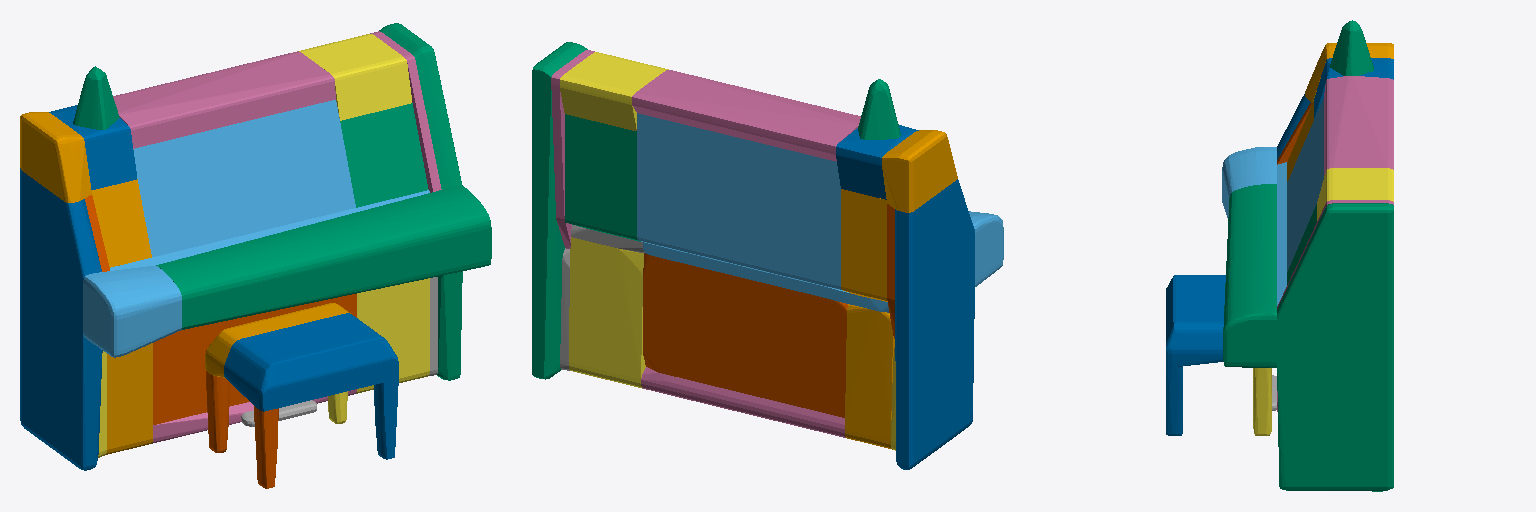
robot.urdf — root:
<robot name="root">
  <link name="link_convex_piece_028.obj">
    <inertial>
      <origin xyz="0 0 0" rpy="0 0 0"/>
    </inertial>
    <visual>
      <origin xyz="0 0 0" rpy="0 0 0"/>
      <geometry>
        <mesh filename="meshes/convex_piece_028.obj" scale="1.0 1.0 1.0"/>
      </geometry>
    </visual>
    <collision>
      <origin xyz="0 0 0" rpy="0 0 0"/>
      <geometry>
        <mesh filename="meshes/convex_piece_028.obj" scale="1.0 1.0 1.0"/>
      </geometry>
    </collision>
  </link>
  <link name="link_convex_piece_018.obj">
    <inertial>
      <origin xyz="0 0 0" rpy="0 0 0"/>
    </inertial>
    <visual>
      <origin xyz="0 0 0" rpy="0 0 0"/>
      <geometry>
        <mesh filename="meshes/convex_piece_018.obj" scale="1.0 1.0 1.0"/>
      </geometry>
    </visual>
    <collision>
      <origin xyz="0 0 0" rpy="0 0 0"/>
      <geometry>
        <mesh filename="meshes/convex_piece_018.obj" scale="1.0 1.0 1.0"/>
      </geometry>
    </collision>
  </link>
  <joint name="link_convex_piece_018.obj_joint" type="fixed">
    <origin xyz="0 0 0" rpy="0 0 0"/>
    <parent link="link_convex_piece_028.obj"/>
    <child link="link_convex_piece_018.obj"/>
  </joint>
  <link name="link_convex_piece_026.obj">
    <inertial>
      <origin xyz="0 0 0" rpy="0 0 0"/>
    </inertial>
    <visual>
      <origin xyz="0 0 0" rpy="0 0 0"/>
      <geometry>
        <mesh filename="meshes/convex_piece_026.obj" scale="1.0 1.0 1.0"/>
      </geometry>
    </visual>
    <collision>
      <origin xyz="0 0 0" rpy="0 0 0"/>
      <geometry>
        <mesh filename="meshes/convex_piece_026.obj" scale="1.0 1.0 1.0"/>
      </geometry>
    </collision>
  </link>
  <joint name="link_convex_piece_026.obj_joint" type="fixed">
    <origin xyz="0 0 0" rpy="0 0 0"/>
    <parent link="link_convex_piece_018.obj"/>
    <child link="link_convex_piece_026.obj"/>
  </joint>
  <link name="link_convex_piece_021.obj">
    <inertial>
      <origin xyz="0 0 0" rpy="0 0 0"/>
    </inertial>
    <visual>
      <origin xyz="0 0 0" rpy="0 0 0"/>
      <geometry>
        <mesh filename="meshes/convex_piece_021.obj" scale="1.0 1.0 1.0"/>
      </geometry>
    </visual>
    <collision>
      <origin xyz="0 0 0" rpy="0 0 0"/>
      <geometry>
        <mesh filename="meshes/convex_piece_021.obj" scale="1.0 1.0 1.0"/>
      </geometry>
    </collision>
  </link>
  <joint name="link_convex_piece_021.obj_joint" type="fixed">
    <origin xyz="0 0 0" rpy="0 0 0"/>
    <parent link="link_convex_piece_026.obj"/>
    <child link="link_convex_piece_021.obj"/>
  </joint>
  <link name="link_convex_piece_012.obj">
    <inertial>
      <origin xyz="0 0 0" rpy="0 0 0"/>
    </inertial>
    <visual>
      <origin xyz="0 0 0" rpy="0 0 0"/>
      <geometry>
        <mesh filename="meshes/convex_piece_012.obj" scale="1.0 1.0 1.0"/>
      </geometry>
    </visual>
    <collision>
      <origin xyz="0 0 0" rpy="0 0 0"/>
      <geometry>
        <mesh filename="meshes/convex_piece_012.obj" scale="1.0 1.0 1.0"/>
      </geometry>
    </collision>
  </link>
  <joint name="link_convex_piece_012.obj_joint" type="fixed">
    <origin xyz="0 0 0" rpy="0 0 0"/>
    <parent link="link_convex_piece_021.obj"/>
    <child link="link_convex_piece_012.obj"/>
  </joint>
  <link name="link_convex_piece_019.obj">
    <inertial>
      <origin xyz="0 0 0" rpy="0 0 0"/>
    </inertial>
    <visual>
      <origin xyz="0 0 0" rpy="0 0 0"/>
      <geometry>
        <mesh filename="meshes/convex_piece_019.obj" scale="1.0 1.0 1.0"/>
      </geometry>
    </visual>
    <collision>
      <origin xyz="0 0 0" rpy="0 0 0"/>
      <geometry>
        <mesh filename="meshes/convex_piece_019.obj" scale="1.0 1.0 1.0"/>
      </geometry>
    </collision>
  </link>
  <joint name="link_convex_piece_019.obj_joint" type="fixed">
    <origin xyz="0 0 0" rpy="0 0 0"/>
    <parent link="link_convex_piece_012.obj"/>
    <child link="link_convex_piece_019.obj"/>
  </joint>
  <link name="link_convex_piece_014.obj">
    <inertial>
      <origin xyz="0 0 0" rpy="0 0 0"/>
    </inertial>
    <visual>
      <origin xyz="0 0 0" rpy="0 0 0"/>
      <geometry>
        <mesh filename="meshes/convex_piece_014.obj" scale="1.0 1.0 1.0"/>
      </geometry>
    </visual>
    <collision>
      <origin xyz="0 0 0" rpy="0 0 0"/>
      <geometry>
        <mesh filename="meshes/convex_piece_014.obj" scale="1.0 1.0 1.0"/>
      </geometry>
    </collision>
  </link>
  <joint name="link_convex_piece_014.obj_joint" type="fixed">
    <origin xyz="0 0 0" rpy="0 0 0"/>
    <parent link="link_convex_piece_019.obj"/>
    <child link="link_convex_piece_014.obj"/>
  </joint>
  <link name="link_convex_piece_020.obj">
    <inertial>
      <origin xyz="0 0 0" rpy="0 0 0"/>
    </inertial>
    <visual>
      <origin xyz="0 0 0" rpy="0 0 0"/>
      <geometry>
        <mesh filename="meshes/convex_piece_020.obj" scale="1.0 1.0 1.0"/>
      </geometry>
    </visual>
    <collision>
      <origin xyz="0 0 0" rpy="0 0 0"/>
      <geometry>
        <mesh filename="meshes/convex_piece_020.obj" scale="1.0 1.0 1.0"/>
      </geometry>
    </collision>
  </link>
  <joint name="link_convex_piece_020.obj_joint" type="fixed">
    <origin xyz="0 0 0" rpy="0 0 0"/>
    <parent link="link_convex_piece_014.obj"/>
    <child link="link_convex_piece_020.obj"/>
  </joint>
  <link name="link_convex_piece_004.obj">
    <inertial>
      <origin xyz="0 0 0" rpy="0 0 0"/>
    </inertial>
    <visual>
      <origin xyz="0 0 0" rpy="0 0 0"/>
      <geometry>
        <mesh filename="meshes/convex_piece_004.obj" scale="1.0 1.0 1.0"/>
      </geometry>
    </visual>
    <collision>
      <origin xyz="0 0 0" rpy="0 0 0"/>
      <geometry>
        <mesh filename="meshes/convex_piece_004.obj" scale="1.0 1.0 1.0"/>
      </geometry>
    </collision>
  </link>
  <joint name="link_convex_piece_004.obj_joint" type="fixed">
    <origin xyz="0 0 0" rpy="0 0 0"/>
    <parent link="link_convex_piece_020.obj"/>
    <child link="link_convex_piece_004.obj"/>
  </joint>
  <link name="link_convex_piece_027.obj">
    <inertial>
      <origin xyz="0 0 0" rpy="0 0 0"/>
    </inertial>
    <visual>
      <origin xyz="0 0 0" rpy="0 0 0"/>
      <geometry>
        <mesh filename="meshes/convex_piece_027.obj" scale="1.0 1.0 1.0"/>
      </geometry>
    </visual>
    <collision>
      <origin xyz="0 0 0" rpy="0 0 0"/>
      <geometry>
        <mesh filename="meshes/convex_piece_027.obj" scale="1.0 1.0 1.0"/>
      </geometry>
    </collision>
  </link>
  <joint name="link_convex_piece_027.obj_joint" type="fixed">
    <origin xyz="0 0 0" rpy="0 0 0"/>
    <parent link="link_convex_piece_004.obj"/>
    <child link="link_convex_piece_027.obj"/>
  </joint>
  <link name="link_convex_piece_001.obj">
    <inertial>
      <origin xyz="0 0 0" rpy="0 0 0"/>
    </inertial>
    <visual>
      <origin xyz="0 0 0" rpy="0 0 0"/>
      <geometry>
        <mesh filename="meshes/convex_piece_001.obj" scale="1.0 1.0 1.0"/>
      </geometry>
    </visual>
    <collision>
      <origin xyz="0 0 0" rpy="0 0 0"/>
      <geometry>
        <mesh filename="meshes/convex_piece_001.obj" scale="1.0 1.0 1.0"/>
      </geometry>
    </collision>
  </link>
  <joint name="link_convex_piece_001.obj_joint" type="fixed">
    <origin xyz="0 0 0" rpy="0 0 0"/>
    <parent link="link_convex_piece_027.obj"/>
    <child link="link_convex_piece_001.obj"/>
  </joint>
  <link name="link_convex_piece_015.obj">
    <inertial>
      <origin xyz="0 0 0" rpy="0 0 0"/>
    </inertial>
    <visual>
      <origin xyz="0 0 0" rpy="0 0 0"/>
      <geometry>
        <mesh filename="meshes/convex_piece_015.obj" scale="1.0 1.0 1.0"/>
      </geometry>
    </visual>
    <collision>
      <origin xyz="0 0 0" rpy="0 0 0"/>
      <geometry>
        <mesh filename="meshes/convex_piece_015.obj" scale="1.0 1.0 1.0"/>
      </geometry>
    </collision>
  </link>
  <joint name="link_convex_piece_015.obj_joint" type="fixed">
    <origin xyz="0 0 0" rpy="0 0 0"/>
    <parent link="link_convex_piece_001.obj"/>
    <child link="link_convex_piece_015.obj"/>
  </joint>
  <link name="link_convex_piece_005.obj">
    <inertial>
      <origin xyz="0 0 0" rpy="0 0 0"/>
    </inertial>
    <visual>
      <origin xyz="0 0 0" rpy="0 0 0"/>
      <geometry>
        <mesh filename="meshes/convex_piece_005.obj" scale="1.0 1.0 1.0"/>
      </geometry>
    </visual>
    <collision>
      <origin xyz="0 0 0" rpy="0 0 0"/>
      <geometry>
        <mesh filename="meshes/convex_piece_005.obj" scale="1.0 1.0 1.0"/>
      </geometry>
    </collision>
  </link>
  <joint name="link_convex_piece_005.obj_joint" type="fixed">
    <origin xyz="0 0 0" rpy="0 0 0"/>
    <parent link="link_convex_piece_015.obj"/>
    <child link="link_convex_piece_005.obj"/>
  </joint>
  <link name="link_convex_piece_024.obj">
    <inertial>
      <origin xyz="0 0 0" rpy="0 0 0"/>
    </inertial>
    <visual>
      <origin xyz="0 0 0" rpy="0 0 0"/>
      <geometry>
        <mesh filename="meshes/convex_piece_024.obj" scale="1.0 1.0 1.0"/>
      </geometry>
    </visual>
    <collision>
      <origin xyz="0 0 0" rpy="0 0 0"/>
      <geometry>
        <mesh filename="meshes/convex_piece_024.obj" scale="1.0 1.0 1.0"/>
      </geometry>
    </collision>
  </link>
  <joint name="link_convex_piece_024.obj_joint" type="fixed">
    <origin xyz="0 0 0" rpy="0 0 0"/>
    <parent link="link_convex_piece_005.obj"/>
    <child link="link_convex_piece_024.obj"/>
  </joint>
  <link name="link_convex_piece_013.obj">
    <inertial>
      <origin xyz="0 0 0" rpy="0 0 0"/>
    </inertial>
    <visual>
      <origin xyz="0 0 0" rpy="0 0 0"/>
      <geometry>
        <mesh filename="meshes/convex_piece_013.obj" scale="1.0 1.0 1.0"/>
      </geometry>
    </visual>
    <collision>
      <origin xyz="0 0 0" rpy="0 0 0"/>
      <geometry>
        <mesh filename="meshes/convex_piece_013.obj" scale="1.0 1.0 1.0"/>
      </geometry>
    </collision>
  </link>
  <joint name="link_convex_piece_013.obj_joint" type="fixed">
    <origin xyz="0 0 0" rpy="0 0 0"/>
    <parent link="link_convex_piece_024.obj"/>
    <child link="link_convex_piece_013.obj"/>
  </joint>
  <link name="link_convex_piece_029.obj">
    <inertial>
      <origin xyz="0 0 0" rpy="0 0 0"/>
    </inertial>
    <visual>
      <origin xyz="0 0 0" rpy="0 0 0"/>
      <geometry>
        <mesh filename="meshes/convex_piece_029.obj" scale="1.0 1.0 1.0"/>
      </geometry>
    </visual>
    <collision>
      <origin xyz="0 0 0" rpy="0 0 0"/>
      <geometry>
        <mesh filename="meshes/convex_piece_029.obj" scale="1.0 1.0 1.0"/>
      </geometry>
    </collision>
  </link>
  <joint name="link_convex_piece_029.obj_joint" type="fixed">
    <origin xyz="0 0 0" rpy="0 0 0"/>
    <parent link="link_convex_piece_013.obj"/>
    <child link="link_convex_piece_029.obj"/>
  </joint>
  <link name="link_convex_piece_002.obj">
    <inertial>
      <origin xyz="0 0 0" rpy="0 0 0"/>
    </inertial>
    <visual>
      <origin xyz="0 0 0" rpy="0 0 0"/>
      <geometry>
        <mesh filename="meshes/convex_piece_002.obj" scale="1.0 1.0 1.0"/>
      </geometry>
    </visual>
    <collision>
      <origin xyz="0 0 0" rpy="0 0 0"/>
      <geometry>
        <mesh filename="meshes/convex_piece_002.obj" scale="1.0 1.0 1.0"/>
      </geometry>
    </collision>
  </link>
  <joint name="link_convex_piece_002.obj_joint" type="fixed">
    <origin xyz="0 0 0" rpy="0 0 0"/>
    <parent link="link_convex_piece_029.obj"/>
    <child link="link_convex_piece_002.obj"/>
  </joint>
  <link name="link_convex_piece_025.obj">
    <inertial>
      <origin xyz="0 0 0" rpy="0 0 0"/>
    </inertial>
    <visual>
      <origin xyz="0 0 0" rpy="0 0 0"/>
      <geometry>
        <mesh filename="meshes/convex_piece_025.obj" scale="1.0 1.0 1.0"/>
      </geometry>
    </visual>
    <collision>
      <origin xyz="0 0 0" rpy="0 0 0"/>
      <geometry>
        <mesh filename="meshes/convex_piece_025.obj" scale="1.0 1.0 1.0"/>
      </geometry>
    </collision>
  </link>
  <joint name="link_convex_piece_025.obj_joint" type="fixed">
    <origin xyz="0 0 0" rpy="0 0 0"/>
    <parent link="link_convex_piece_002.obj"/>
    <child link="link_convex_piece_025.obj"/>
  </joint>
  <link name="link_convex_piece_010.obj">
    <inertial>
      <origin xyz="0 0 0" rpy="0 0 0"/>
    </inertial>
    <visual>
      <origin xyz="0 0 0" rpy="0 0 0"/>
      <geometry>
        <mesh filename="meshes/convex_piece_010.obj" scale="1.0 1.0 1.0"/>
      </geometry>
    </visual>
    <collision>
      <origin xyz="0 0 0" rpy="0 0 0"/>
      <geometry>
        <mesh filename="meshes/convex_piece_010.obj" scale="1.0 1.0 1.0"/>
      </geometry>
    </collision>
  </link>
  <joint name="link_convex_piece_010.obj_joint" type="fixed">
    <origin xyz="0 0 0" rpy="0 0 0"/>
    <parent link="link_convex_piece_025.obj"/>
    <child link="link_convex_piece_010.obj"/>
  </joint>
  <link name="link_convex_piece_006.obj">
    <inertial>
      <origin xyz="0 0 0" rpy="0 0 0"/>
    </inertial>
    <visual>
      <origin xyz="0 0 0" rpy="0 0 0"/>
      <geometry>
        <mesh filename="meshes/convex_piece_006.obj" scale="1.0 1.0 1.0"/>
      </geometry>
    </visual>
    <collision>
      <origin xyz="0 0 0" rpy="0 0 0"/>
      <geometry>
        <mesh filename="meshes/convex_piece_006.obj" scale="1.0 1.0 1.0"/>
      </geometry>
    </collision>
  </link>
  <joint name="link_convex_piece_006.obj_joint" type="fixed">
    <origin xyz="0 0 0" rpy="0 0 0"/>
    <parent link="link_convex_piece_010.obj"/>
    <child link="link_convex_piece_006.obj"/>
  </joint>
  <link name="link_convex_piece_003.obj">
    <inertial>
      <origin xyz="0 0 0" rpy="0 0 0"/>
    </inertial>
    <visual>
      <origin xyz="0 0 0" rpy="0 0 0"/>
      <geometry>
        <mesh filename="meshes/convex_piece_003.obj" scale="1.0 1.0 1.0"/>
      </geometry>
    </visual>
    <collision>
      <origin xyz="0 0 0" rpy="0 0 0"/>
      <geometry>
        <mesh filename="meshes/convex_piece_003.obj" scale="1.0 1.0 1.0"/>
      </geometry>
    </collision>
  </link>
  <joint name="link_convex_piece_003.obj_joint" type="fixed">
    <origin xyz="0 0 0" rpy="0 0 0"/>
    <parent link="link_convex_piece_006.obj"/>
    <child link="link_convex_piece_003.obj"/>
  </joint>
  <link name="link_convex_piece_008.obj">
    <inertial>
      <origin xyz="0 0 0" rpy="0 0 0"/>
    </inertial>
    <visual>
      <origin xyz="0 0 0" rpy="0 0 0"/>
      <geometry>
        <mesh filename="meshes/convex_piece_008.obj" scale="1.0 1.0 1.0"/>
      </geometry>
    </visual>
    <collision>
      <origin xyz="0 0 0" rpy="0 0 0"/>
      <geometry>
        <mesh filename="meshes/convex_piece_008.obj" scale="1.0 1.0 1.0"/>
      </geometry>
    </collision>
  </link>
  <joint name="link_convex_piece_008.obj_joint" type="fixed">
    <origin xyz="0 0 0" rpy="0 0 0"/>
    <parent link="link_convex_piece_003.obj"/>
    <child link="link_convex_piece_008.obj"/>
  </joint>
  <link name="link_convex_piece_023.obj">
    <inertial>
      <origin xyz="0 0 0" rpy="0 0 0"/>
    </inertial>
    <visual>
      <origin xyz="0 0 0" rpy="0 0 0"/>
      <geometry>
        <mesh filename="meshes/convex_piece_023.obj" scale="1.0 1.0 1.0"/>
      </geometry>
    </visual>
    <collision>
      <origin xyz="0 0 0" rpy="0 0 0"/>
      <geometry>
        <mesh filename="meshes/convex_piece_023.obj" scale="1.0 1.0 1.0"/>
      </geometry>
    </collision>
  </link>
  <joint name="link_convex_piece_023.obj_joint" type="fixed">
    <origin xyz="0 0 0" rpy="0 0 0"/>
    <parent link="link_convex_piece_008.obj"/>
    <child link="link_convex_piece_023.obj"/>
  </joint>
  <link name="link_convex_piece_022.obj">
    <inertial>
      <origin xyz="0 0 0" rpy="0 0 0"/>
    </inertial>
    <visual>
      <origin xyz="0 0 0" rpy="0 0 0"/>
      <geometry>
        <mesh filename="meshes/convex_piece_022.obj" scale="1.0 1.0 1.0"/>
      </geometry>
    </visual>
    <collision>
      <origin xyz="0 0 0" rpy="0 0 0"/>
      <geometry>
        <mesh filename="meshes/convex_piece_022.obj" scale="1.0 1.0 1.0"/>
      </geometry>
    </collision>
  </link>
  <joint name="link_convex_piece_022.obj_joint" type="fixed">
    <origin xyz="0 0 0" rpy="0 0 0"/>
    <parent link="link_convex_piece_023.obj"/>
    <child link="link_convex_piece_022.obj"/>
  </joint>
  <link name="link_convex_piece_011.obj">
    <inertial>
      <origin xyz="0 0 0" rpy="0 0 0"/>
    </inertial>
    <visual>
      <origin xyz="0 0 0" rpy="0 0 0"/>
      <geometry>
        <mesh filename="meshes/convex_piece_011.obj" scale="1.0 1.0 1.0"/>
      </geometry>
    </visual>
    <collision>
      <origin xyz="0 0 0" rpy="0 0 0"/>
      <geometry>
        <mesh filename="meshes/convex_piece_011.obj" scale="1.0 1.0 1.0"/>
      </geometry>
    </collision>
  </link>
  <joint name="link_convex_piece_011.obj_joint" type="fixed">
    <origin xyz="0 0 0" rpy="0 0 0"/>
    <parent link="link_convex_piece_022.obj"/>
    <child link="link_convex_piece_011.obj"/>
  </joint>
  <link name="link_convex_piece_000.obj">
    <inertial>
      <origin xyz="0 0 0" rpy="0 0 0"/>
    </inertial>
    <visual>
      <origin xyz="0 0 0" rpy="0 0 0"/>
      <geometry>
        <mesh filename="meshes/convex_piece_000.obj" scale="1.0 1.0 1.0"/>
      </geometry>
    </visual>
    <collision>
      <origin xyz="0 0 0" rpy="0 0 0"/>
      <geometry>
        <mesh filename="meshes/convex_piece_000.obj" scale="1.0 1.0 1.0"/>
      </geometry>
    </collision>
  </link>
  <joint name="link_convex_piece_000.obj_joint" type="fixed">
    <origin xyz="0 0 0" rpy="0 0 0"/>
    <parent link="link_convex_piece_011.obj"/>
    <child link="link_convex_piece_000.obj"/>
  </joint>
  <link name="link_convex_piece_016.obj">
    <inertial>
      <origin xyz="0 0 0" rpy="0 0 0"/>
    </inertial>
    <visual>
      <origin xyz="0 0 0" rpy="0 0 0"/>
      <geometry>
        <mesh filename="meshes/convex_piece_016.obj" scale="1.0 1.0 1.0"/>
      </geometry>
    </visual>
    <collision>
      <origin xyz="0 0 0" rpy="0 0 0"/>
      <geometry>
        <mesh filename="meshes/convex_piece_016.obj" scale="1.0 1.0 1.0"/>
      </geometry>
    </collision>
  </link>
  <joint name="link_convex_piece_016.obj_joint" type="fixed">
    <origin xyz="0 0 0" rpy="0 0 0"/>
    <parent link="link_convex_piece_000.obj"/>
    <child link="link_convex_piece_016.obj"/>
  </joint>
  <link name="link_convex_piece_009.obj">
    <inertial>
      <origin xyz="0 0 0" rpy="0 0 0"/>
    </inertial>
    <visual>
      <origin xyz="0 0 0" rpy="0 0 0"/>
      <geometry>
        <mesh filename="meshes/convex_piece_009.obj" scale="1.0 1.0 1.0"/>
      </geometry>
    </visual>
    <collision>
      <origin xyz="0 0 0" rpy="0 0 0"/>
      <geometry>
        <mesh filename="meshes/convex_piece_009.obj" scale="1.0 1.0 1.0"/>
      </geometry>
    </collision>
  </link>
  <joint name="link_convex_piece_009.obj_joint" type="fixed">
    <origin xyz="0 0 0" rpy="0 0 0"/>
    <parent link="link_convex_piece_016.obj"/>
    <child link="link_convex_piece_009.obj"/>
  </joint>
  <link name="link_convex_piece_007.obj">
    <inertial>
      <origin xyz="0 0 0" rpy="0 0 0"/>
    </inertial>
    <visual>
      <origin xyz="0 0 0" rpy="0 0 0"/>
      <geometry>
        <mesh filename="meshes/convex_piece_007.obj" scale="1.0 1.0 1.0"/>
      </geometry>
    </visual>
    <collision>
      <origin xyz="0 0 0" rpy="0 0 0"/>
      <geometry>
        <mesh filename="meshes/convex_piece_007.obj" scale="1.0 1.0 1.0"/>
      </geometry>
    </collision>
  </link>
  <joint name="link_convex_piece_007.obj_joint" type="fixed">
    <origin xyz="0 0 0" rpy="0 0 0"/>
    <parent link="link_convex_piece_009.obj"/>
    <child link="link_convex_piece_007.obj"/>
  </joint>
  <link name="link_convex_piece_017.obj">
    <inertial>
      <origin xyz="0 0 0" rpy="0 0 0"/>
    </inertial>
    <visual>
      <origin xyz="0 0 0" rpy="0 0 0"/>
      <geometry>
        <mesh filename="meshes/convex_piece_017.obj" scale="1.0 1.0 1.0"/>
      </geometry>
    </visual>
    <collision>
      <origin xyz="0 0 0" rpy="0 0 0"/>
      <geometry>
        <mesh filename="meshes/convex_piece_017.obj" scale="1.0 1.0 1.0"/>
      </geometry>
    </collision>
  </link>
  <joint name="link_convex_piece_017.obj_joint" type="fixed">
    <origin xyz="0 0 0" rpy="0 0 0"/>
    <parent link="link_convex_piece_007.obj"/>
    <child link="link_convex_piece_017.obj"/>
  </joint>
</robot>

--- Facts derived from the render (not from the file) ---
3 views of the same robot in one strip: view 1: azimuth 30°, elevation 25°; view 2: azimuth 150°, elevation 25°; view 3: azimuth 270°, elevation 25° (orthographic).
Robot: root — 30 links, 29 joints (29 fixed); root link link_convex_piece_028.obj; default pose: all joints at 0.
Links seen in each view (by area): view 1: link_convex_piece_001.obj, link_convex_piece_025.obj, link_convex_piece_012.obj, link_convex_piece_003.obj, link_convex_piece_013.obj, link_convex_piece_000.obj, link_convex_piece_026.obj, link_convex_piece_016.obj, link_convex_piece_017.obj, link_convex_piece_021.obj, link_convex_piece_015.obj, link_convex_piece_004.obj (+16 smaller); view 2: link_convex_piece_025.obj, link_convex_piece_017.obj, link_convex_piece_012.obj, link_convex_piece_013.obj, link_convex_piece_015.obj, link_convex_piece_016.obj, link_convex_piece_026.obj, link_convex_piece_011.obj, link_convex_piece_021.obj, link_convex_piece_028.obj, link_convex_piece_004.obj, link_convex_piece_014.obj (+8 smaller); view 3: link_convex_piece_016.obj, link_convex_piece_001.obj, link_convex_piece_013.obj, link_convex_piece_003.obj, link_convex_piece_025.obj, link_convex_piece_021.obj, link_convex_piece_000.obj, link_convex_piece_010.obj, link_convex_piece_018.obj, link_convex_piece_006.obj, link_convex_piece_005.obj, link_convex_piece_004.obj (+2 smaller).
Link boxes in pixels (box(x1,y1,x2,y2)): link_convex_piece_001.obj: box(156, 185, 491, 329); link_convex_piece_025.obj: box(133, 100, 355, 256); link_convex_piece_012.obj: box(20, 168, 102, 470); link_convex_piece_003.obj: box(224, 313, 398, 411); link_convex_piece_013.obj: box(113, 51, 335, 148); link_convex_piece_000.obj: box(83, 265, 181, 357); link_convex_piece_026.obj: box(340, 103, 428, 207); link_convex_piece_016.obj: box(379, 23, 462, 380); link_convex_piece_017.obj: box(153, 294, 356, 424); link_convex_piece_021.obj: box(299, 34, 411, 120); link_convex_piece_015.obj: box(356, 278, 429, 393); link_convex_piece_004.obj: box(20, 112, 91, 202); link_convex_piece_025.obj: box(637, 113, 841, 289); link_convex_piece_017.obj: box(643, 253, 847, 417); link_convex_piece_012.obj: box(895, 179, 974, 469); link_convex_piece_013.obj: box(632, 70, 860, 161); link_convex_piece_015.obj: box(569, 237, 645, 388); link_convex_piece_016.obj: box(532, 42, 587, 379); link_convex_piece_026.obj: box(565, 114, 640, 241); link_convex_piece_011.obj: box(845, 304, 894, 449); link_convex_piece_021.obj: box(560, 52, 668, 130); link_convex_piece_028.obj: box(841, 189, 887, 301); link_convex_piece_004.obj: box(882, 130, 957, 212); link_convex_piece_014.obj: box(641, 367, 845, 437); link_convex_piece_016.obj: box(1277, 203, 1393, 491); link_convex_piece_001.obj: box(1223, 184, 1276, 367); link_convex_piece_013.obj: box(1324, 76, 1393, 175); link_convex_piece_003.obj: box(1166, 275, 1225, 366); link_convex_piece_025.obj: box(1287, 98, 1323, 271); link_convex_piece_021.obj: box(1317, 168, 1393, 220); link_convex_piece_000.obj: box(1222, 147, 1276, 217); link_convex_piece_010.obj: box(1330, 20, 1373, 75); link_convex_piece_018.obj: box(1277, 162, 1286, 305); link_convex_piece_006.obj: box(1253, 368, 1271, 435); link_convex_piece_005.obj: box(1166, 366, 1182, 435); link_convex_piece_004.obj: box(1305, 43, 1393, 102).
Size in the robot's own frame: 1.37 by 0.7883 by 1.26 metres.
Meshes: 30 distinct files referenced, 30 mesh visuals loaded (30 OBJ).